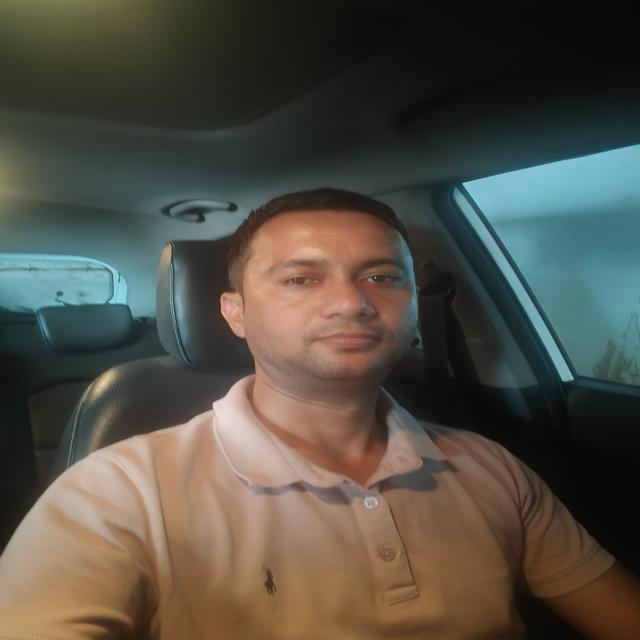no-seatbelt: (197, 280, 538, 640)
